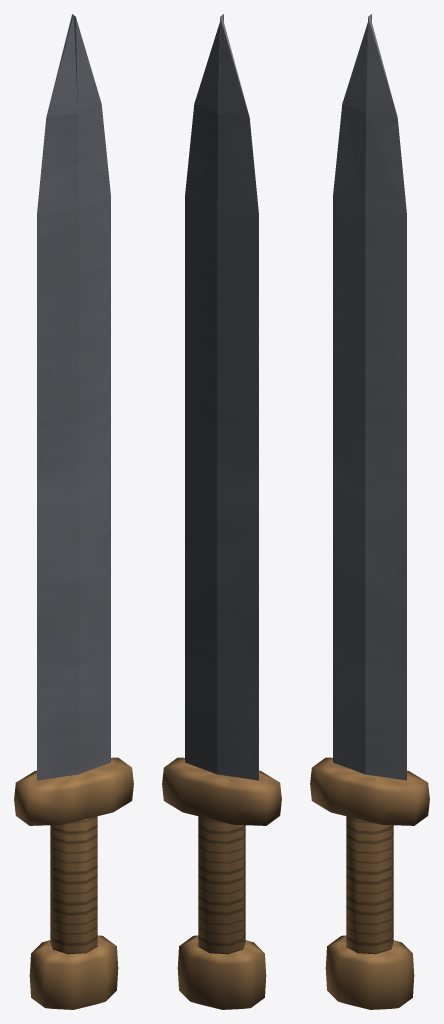
Rendered from gladius.glb.
The picture shows the model from 3 angles, left to right: view 1: azimuth 30°, elevation 25°; view 2: azimuth 150°, elevation 25°; view 3: azimuth 330°, elevation 25°; orthographic projection.
Parts seen in each view (by area): view 1: gladius; view 2: gladius; view 3: gladius.
Part boxes in pixels (x1=…): gladius: x1=14, y1=14, x2=133, y2=1009; gladius: x1=162, y1=14, x2=281, y2=1009; gladius: x1=310, y1=14, x2=429, y2=1009.
Size of the model in its own units: 0.0798 by 0.71 by 0.0419.
1 material, 1 textured.
